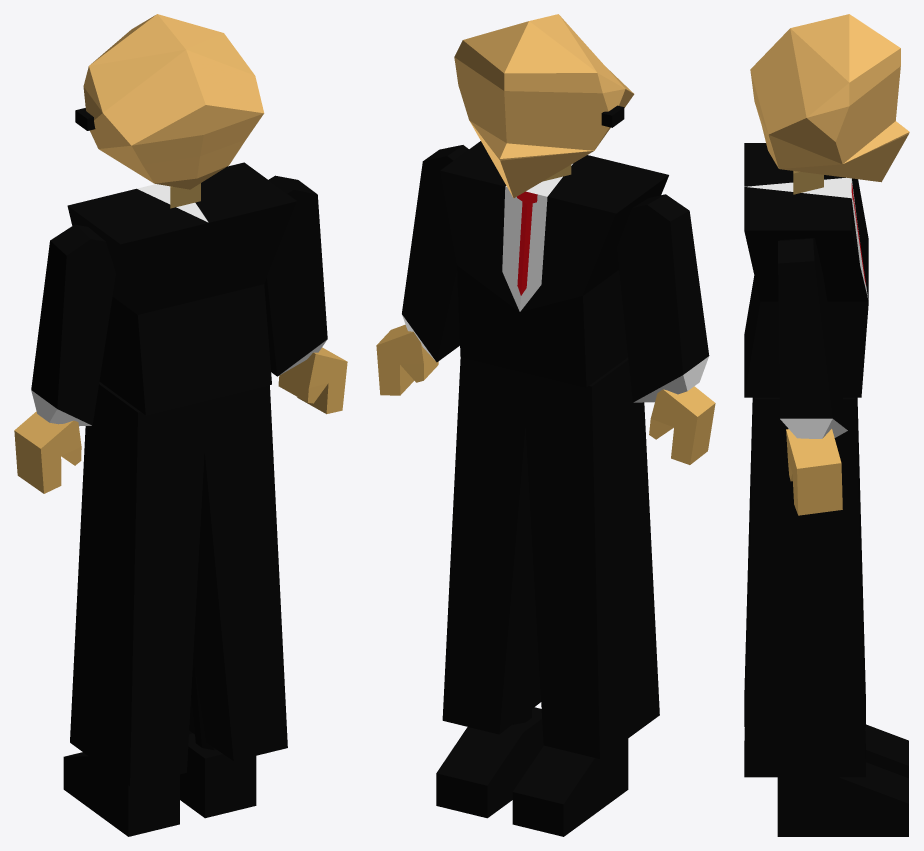
Rendered from Agent.glb.
3 renders of one model, left to right at view 1: azimuth 30°, elevation 25°; view 2: azimuth 150°, elevation 25°; view 3: azimuth 270°, elevation 25°, orthographic.
Visible parts, largest first — view 1: upper body, Chest, Plane, Arms, shose, Hand; view 2: upper body, Chest, Arms, Plane, shose, Hand; view 3: upper body, Plane, Chest, Arms, shose, Hand, neck.
Boxes of the visible parts, bbox=[...] form: upper body: bbox=[70, 382, 287, 786]; Chest: bbox=[67, 162, 297, 415]; Plane: bbox=[83, 14, 264, 189]; Arms: bbox=[31, 175, 327, 426]; shose: bbox=[63, 666, 256, 836]; Hand: bbox=[14, 347, 347, 493]; upper body: bbox=[442, 357, 659, 758]; Chest: bbox=[440, 141, 668, 387]; Arms: bbox=[402, 145, 709, 402]; Plane: bbox=[454, 14, 634, 198]; shose: bbox=[436, 643, 628, 836]; Hand: bbox=[376, 324, 715, 464]; upper body: bbox=[744, 397, 865, 777]; Plane: bbox=[750, 14, 909, 182]; Chest: bbox=[744, 143, 868, 397]; Arms: bbox=[778, 238, 847, 438]; shose: bbox=[777, 724, 908, 836]; Hand: bbox=[786, 429, 842, 515]; neck: bbox=[793, 171, 823, 194].
Size of the model in its own units: 4.06 by 9.46 by 1.79.
